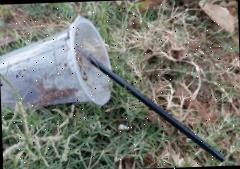general: (88, 55, 227, 162)
plastic: (0, 13, 112, 111)
